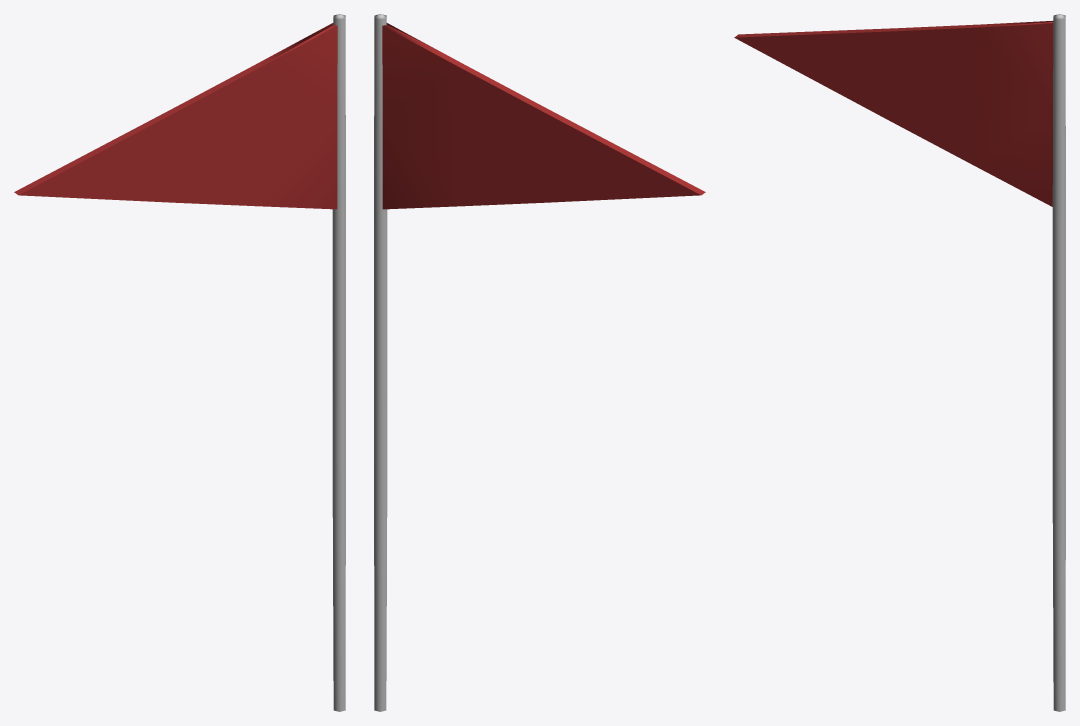
The model's file is FlagPole.fbx.
3 renders of one model, left to right at view 1: azimuth 30°, elevation 25°; view 2: azimuth 150°, elevation 25°; view 3: azimuth 330°, elevation 25°, orthographic.
Parts seen in each view (by area): view 1: Flag; view 2: Flag; view 3: Flag.
Part boxes in pixels (x1,y1,x2,y2): Flag: (14,14,345,711); Flag: (374,14,705,711); Flag: (734,14,1065,711).
Size of the model in its own units: 0.1243 by 0.2503 by 0.00432.
